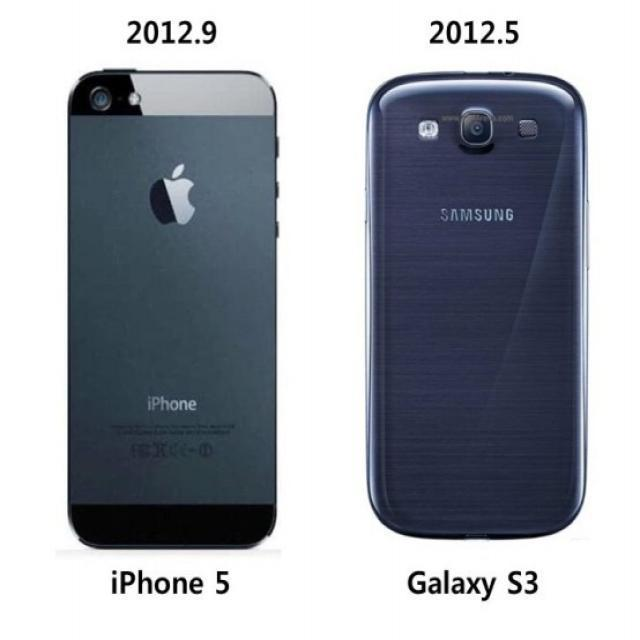phone: (364, 67, 590, 542), (64, 65, 280, 551)
